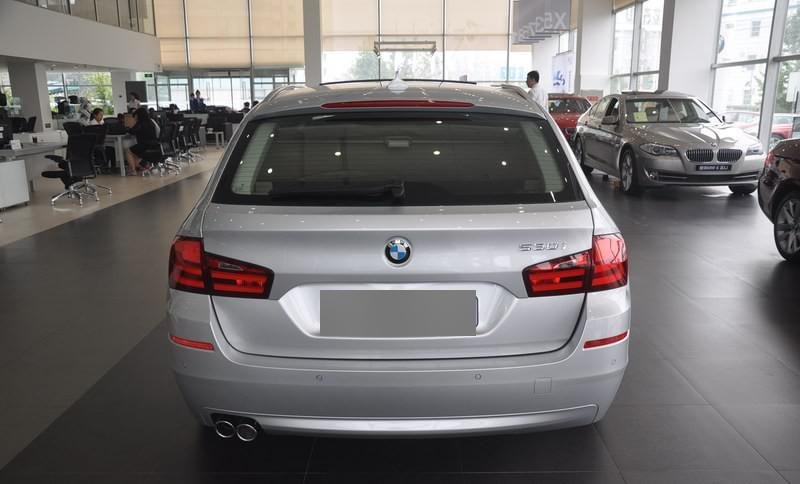Wagon: (165, 68, 633, 443)
